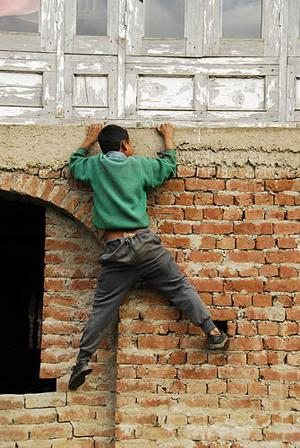person: (68, 122, 227, 390)
